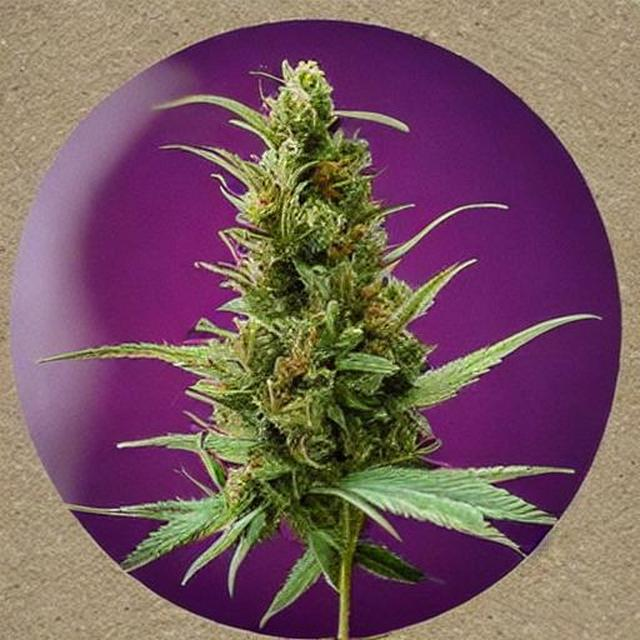Marijuana Plant: (0, 0, 640, 640), (0, 70, 640, 640)
